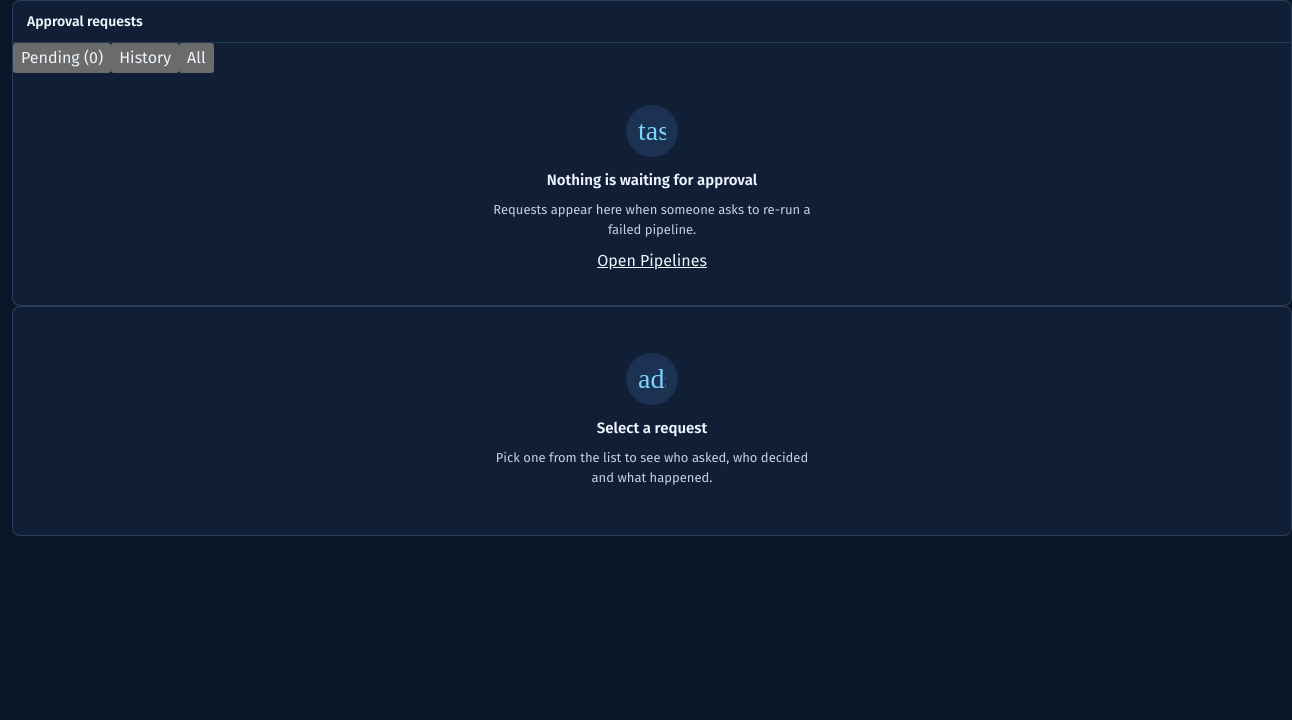
Test: LiveApprovals › records a failed execution honestly and marks verification as not run
The image size is (1292, 720).
Click the button "History".
click(145, 58)  # box [111,43,179,73]
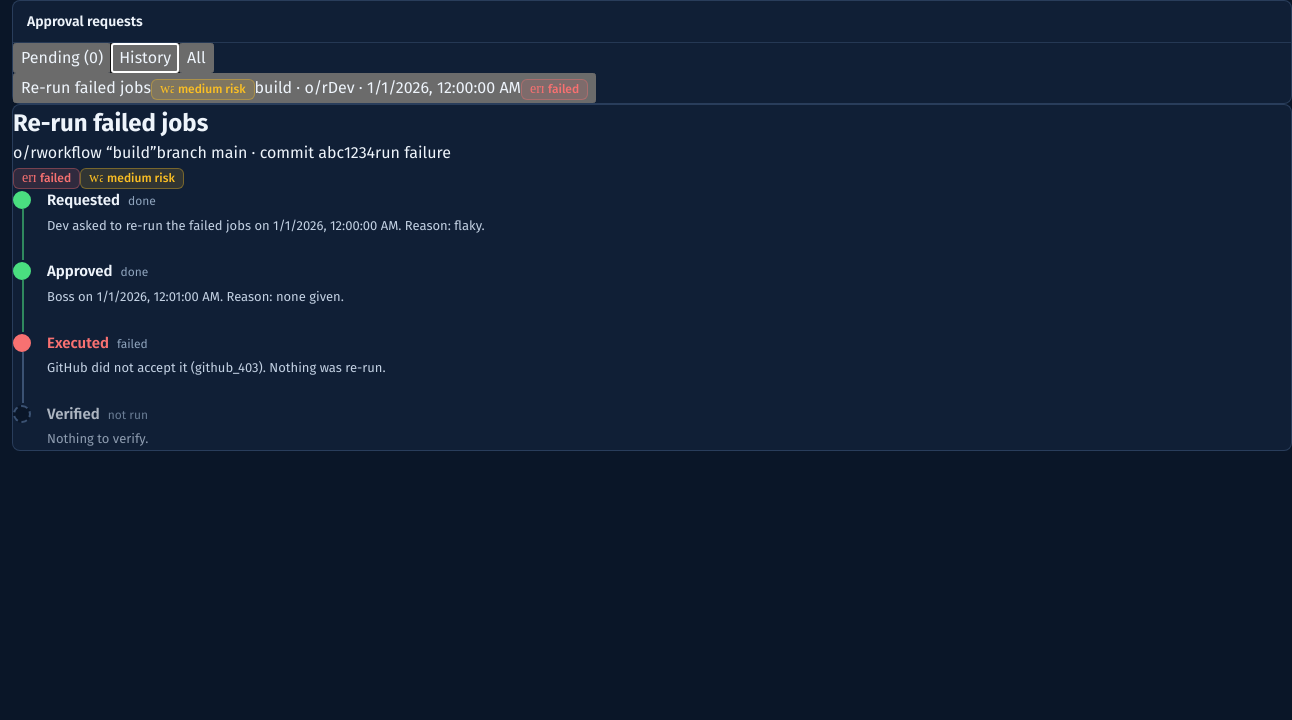
Expected: the list item that starts with "Executed" reads "Executed failed GitHub did not accept it (github_403). Nothing was re-run.", [13,334,386,375]
